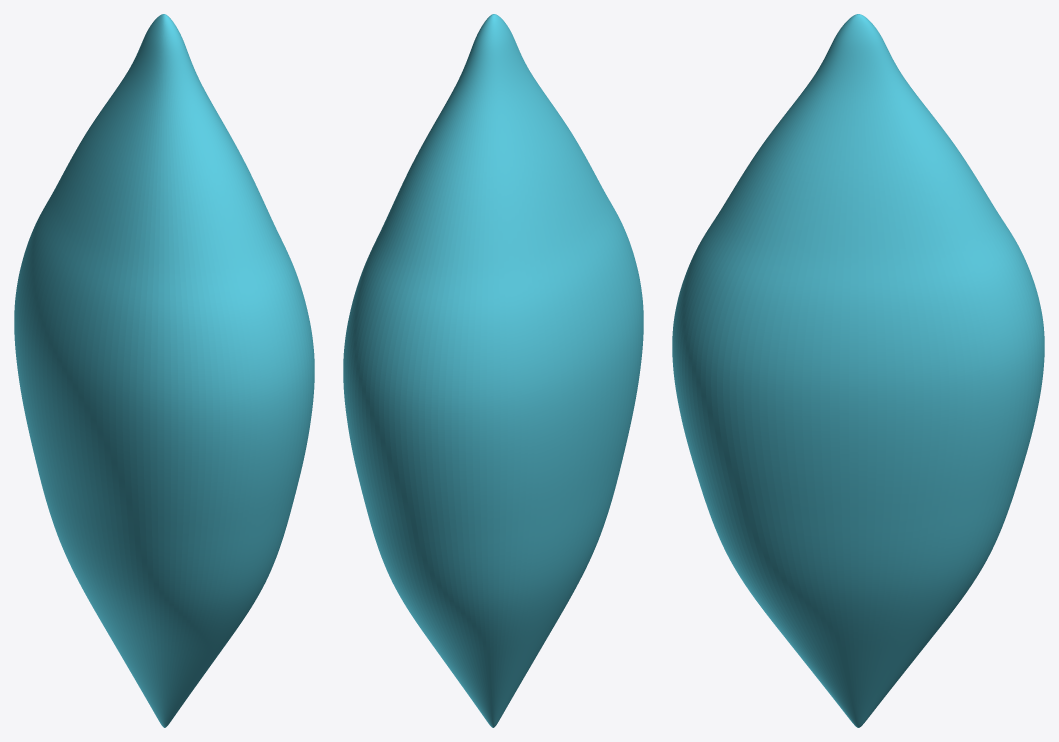
File: water.fbx
3 renders of one model, left to right at view 1: azimuth 30°, elevation 25°; view 2: azimuth 150°, elevation 25°; view 3: azimuth 270°, elevation 25°, orthographic.
Visible parts, largest first — view 1: Cube; view 2: Cube; view 3: Cube.
Boxes of the visible parts, left/top/right/bottom form: Cube: left=14, top=14, right=314, bottom=727; Cube: left=343, top=14, right=643, bottom=727; Cube: left=672, top=14, right=1044, bottom=727.
Size of the model in its own units: 4.22 by 12.75 by 6.03.
